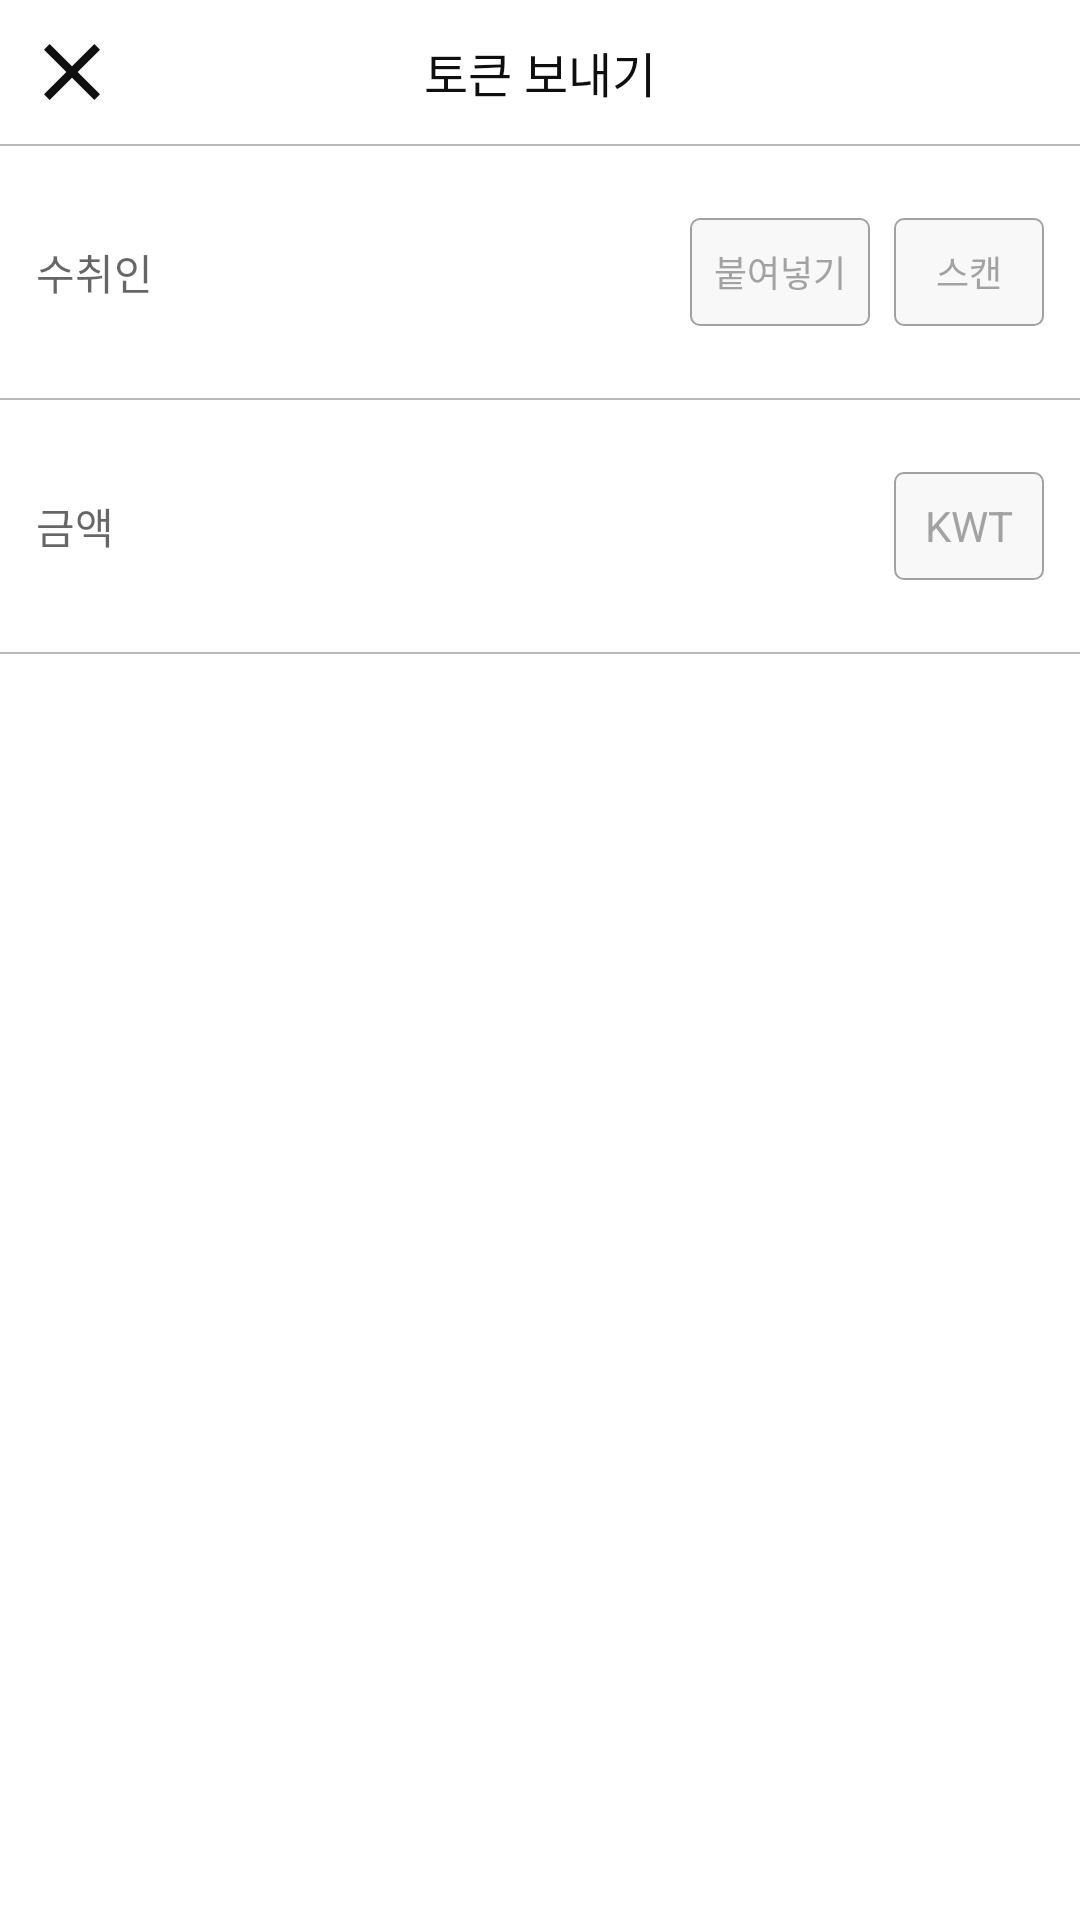

Locate icon controls on the screen. Image size 1080x1920, boxes as [left=x1, top=y1, right=x2, bottom=y2].
close: [left=44, top=44, right=100, bottom=100]
